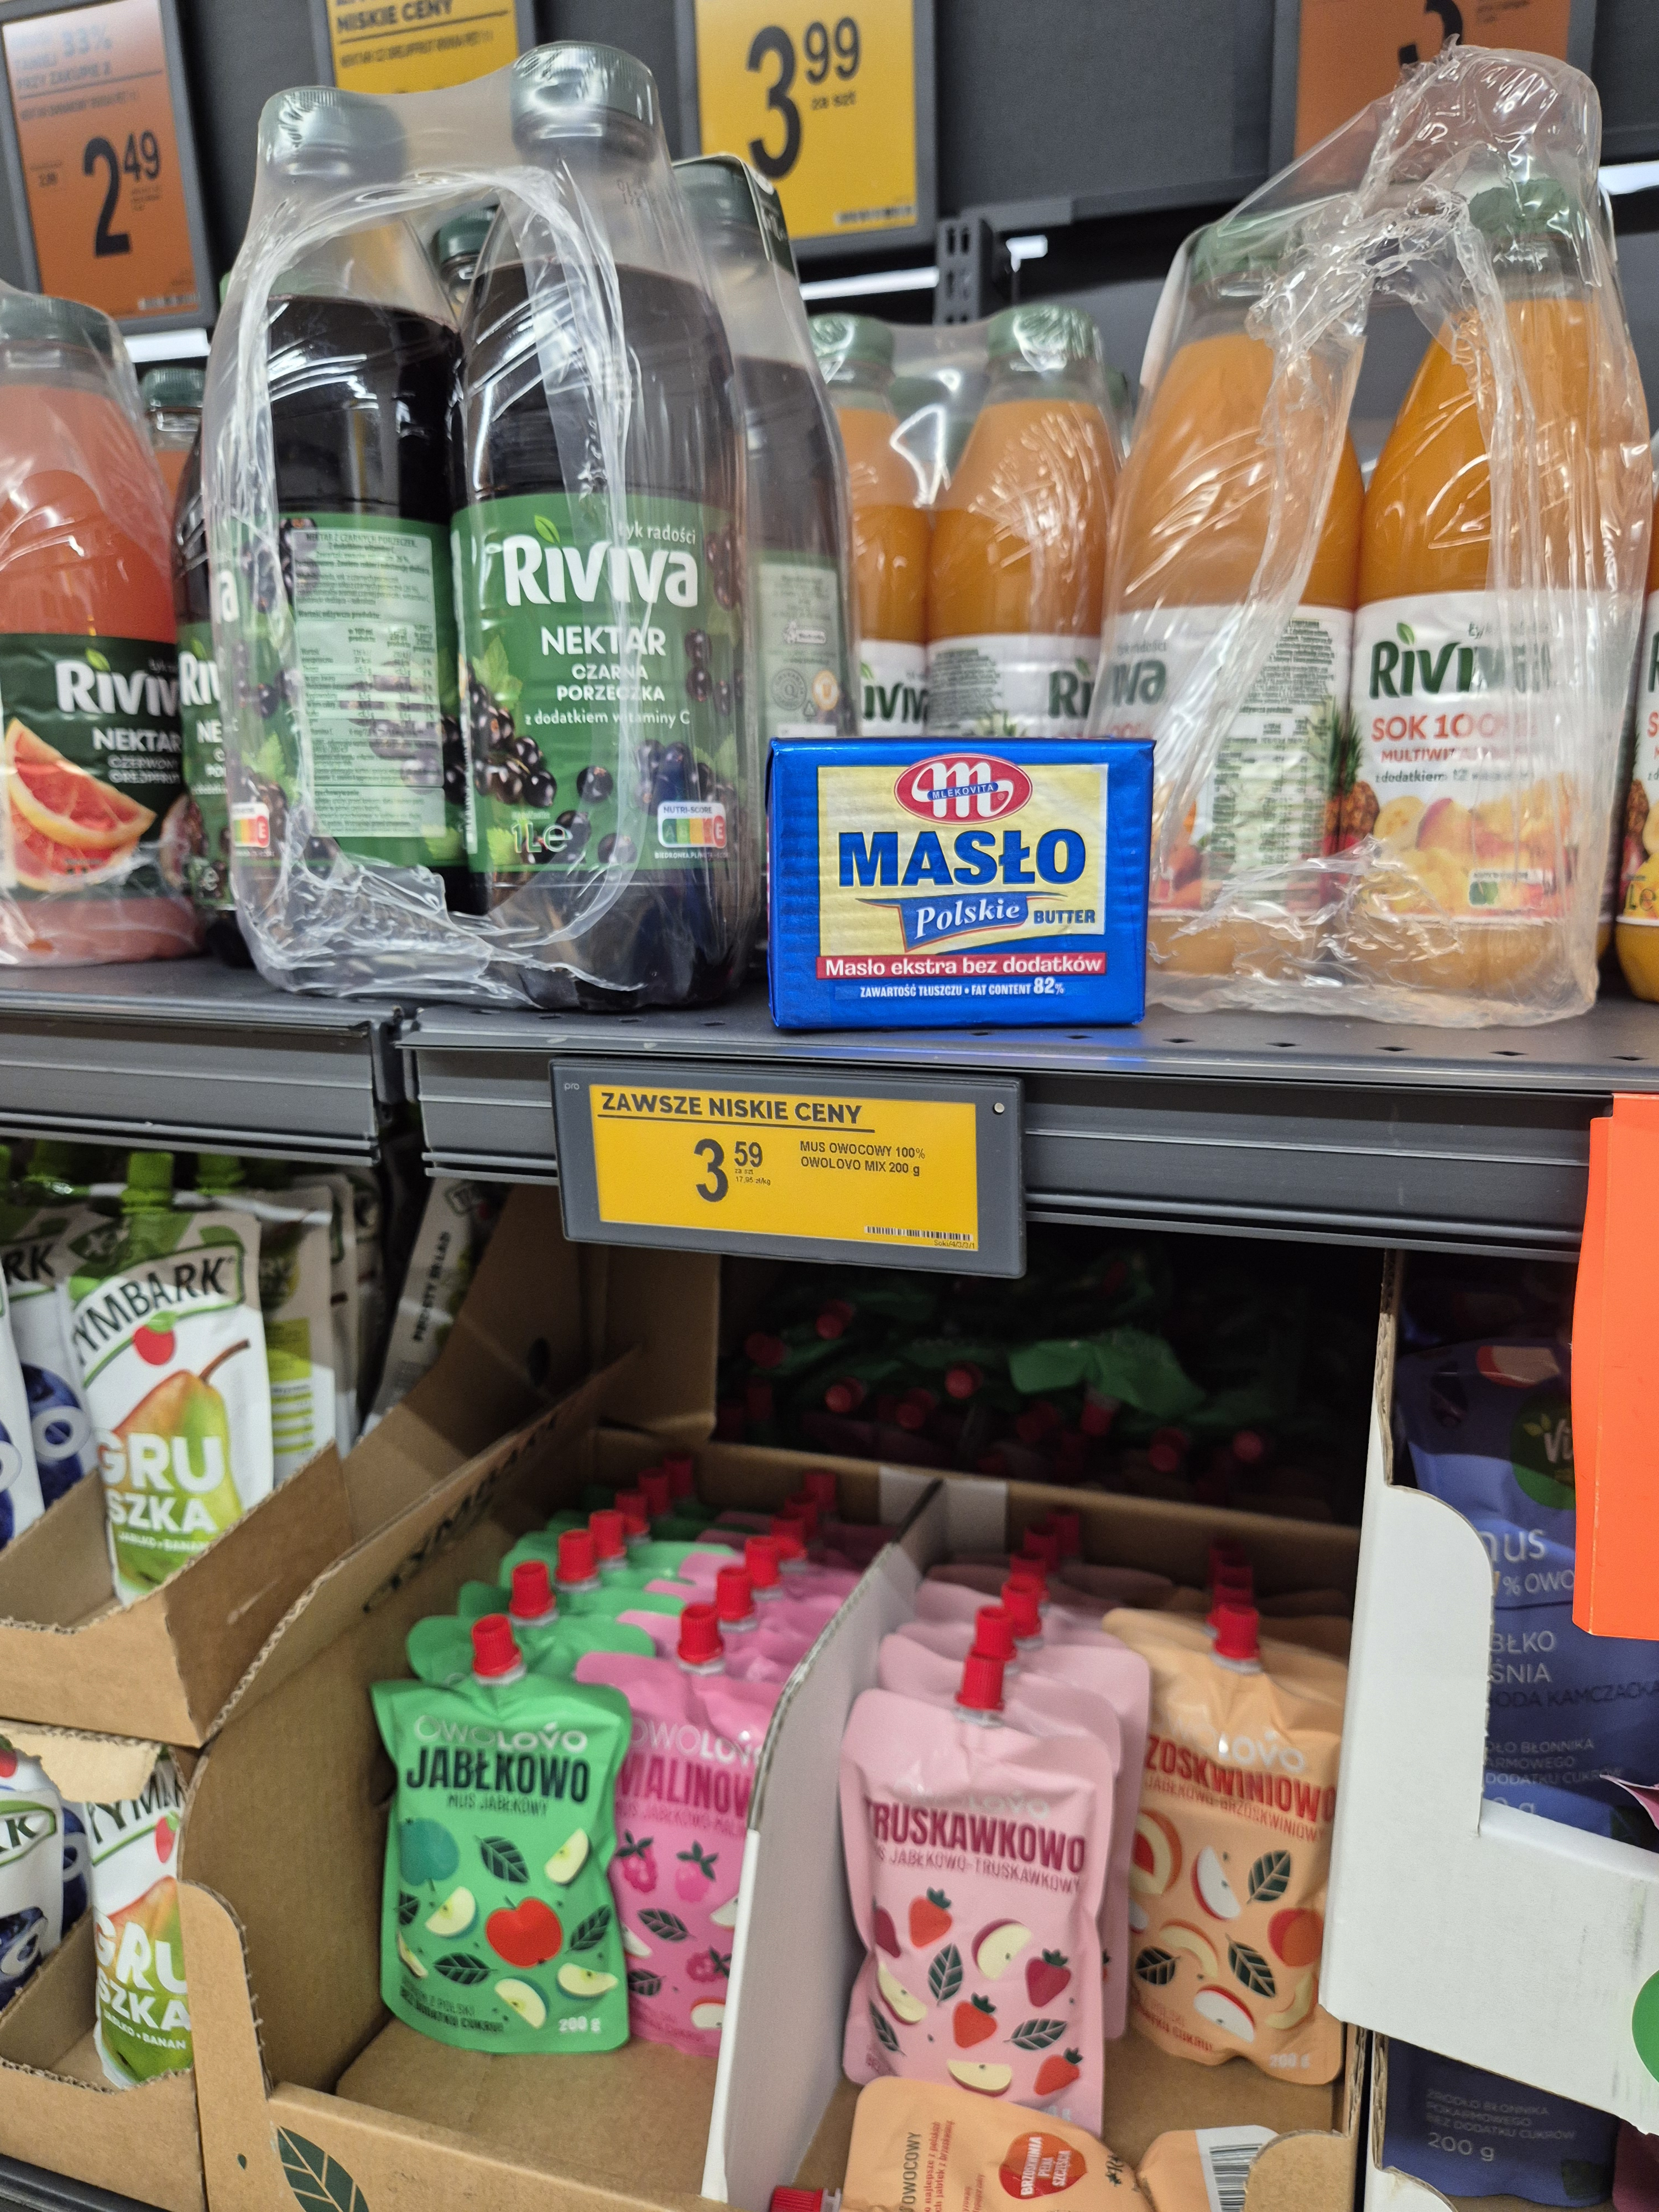Butter: (760, 716, 1164, 1045)
